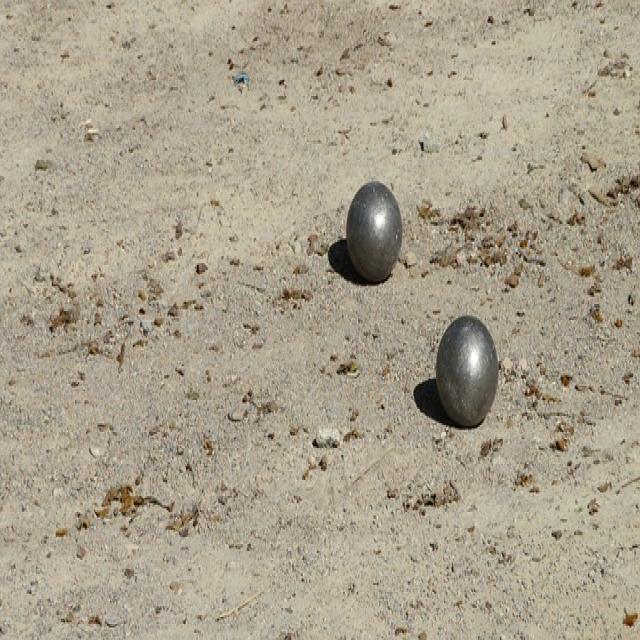petanque: (432, 306, 508, 436), (342, 177, 412, 302)
